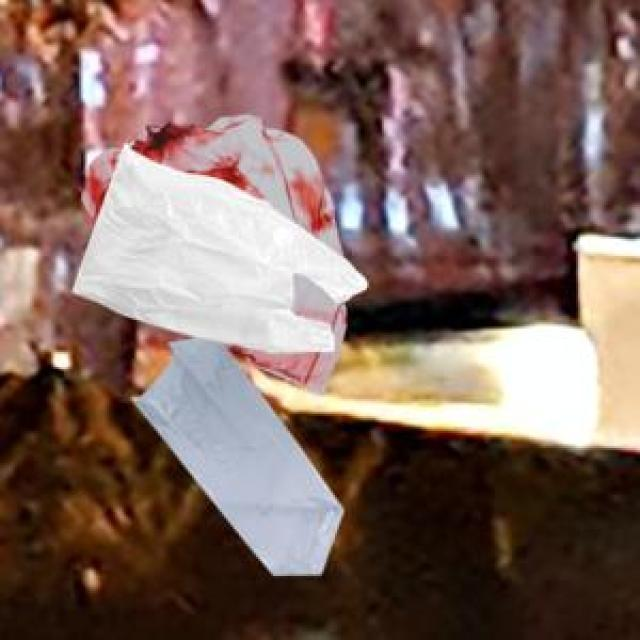waste: (74, 115, 366, 576)
